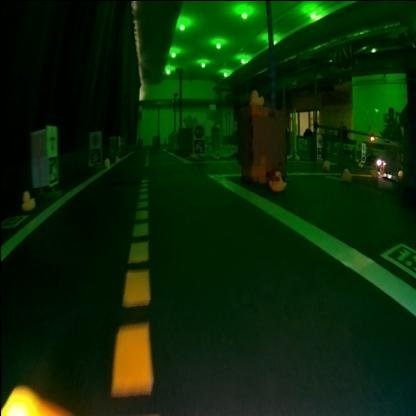Duckie: (270, 171, 286, 188), (22, 190, 35, 208), (250, 88, 264, 104), (341, 168, 351, 180), (323, 159, 330, 171), (104, 156, 110, 165), (115, 154, 120, 161)
Intersection sign: (48, 124, 56, 152), (90, 130, 100, 145)
QR code: (379, 240, 415, 280), (47, 154, 58, 184), (2, 214, 26, 225), (90, 146, 100, 163), (194, 138, 204, 152)
Stop sign: (194, 122, 204, 136)
